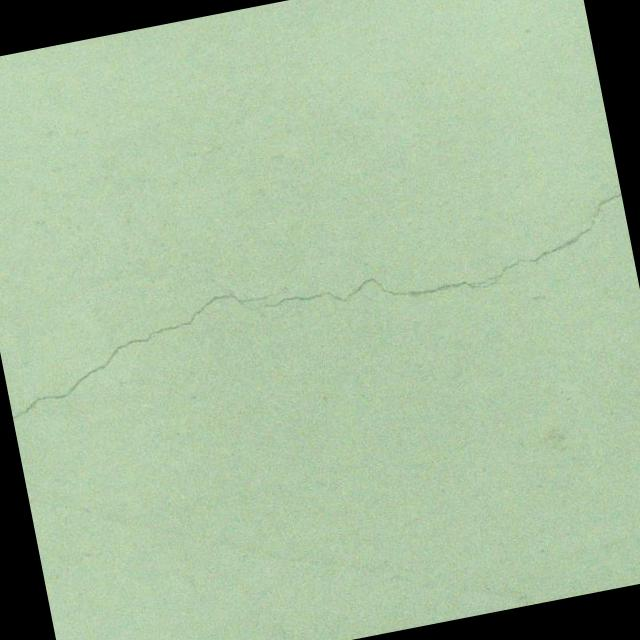crack: (0, 193, 640, 420)
